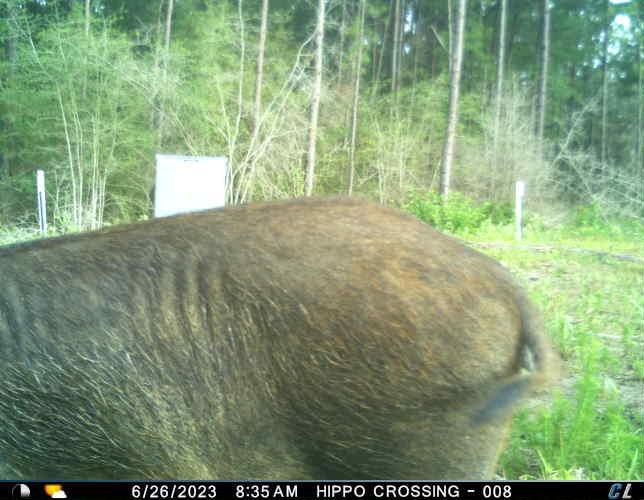Hog: (0, 189, 562, 481)
